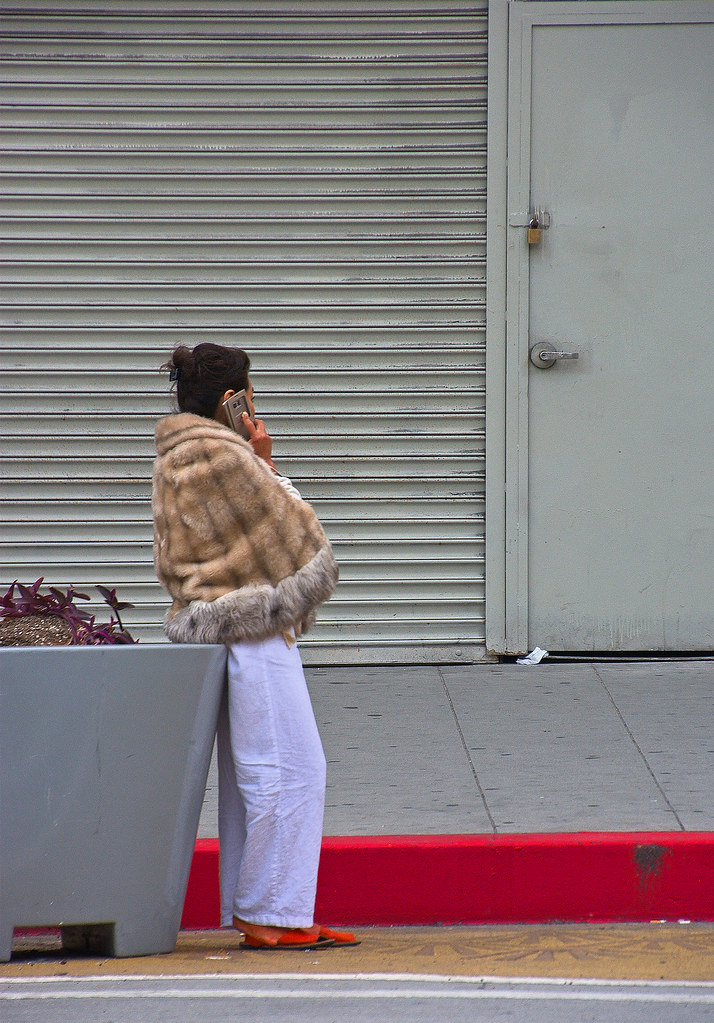phone: (217, 393, 258, 459)
